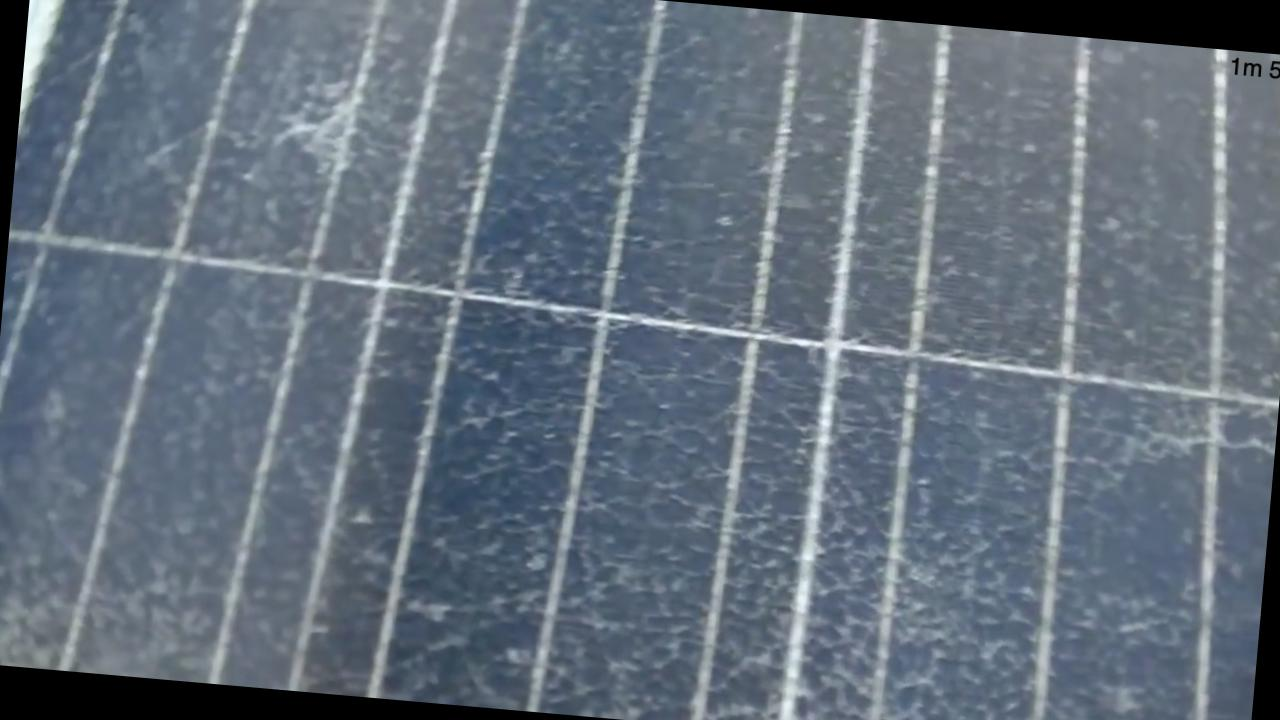Crack: (256, 59, 394, 200)
